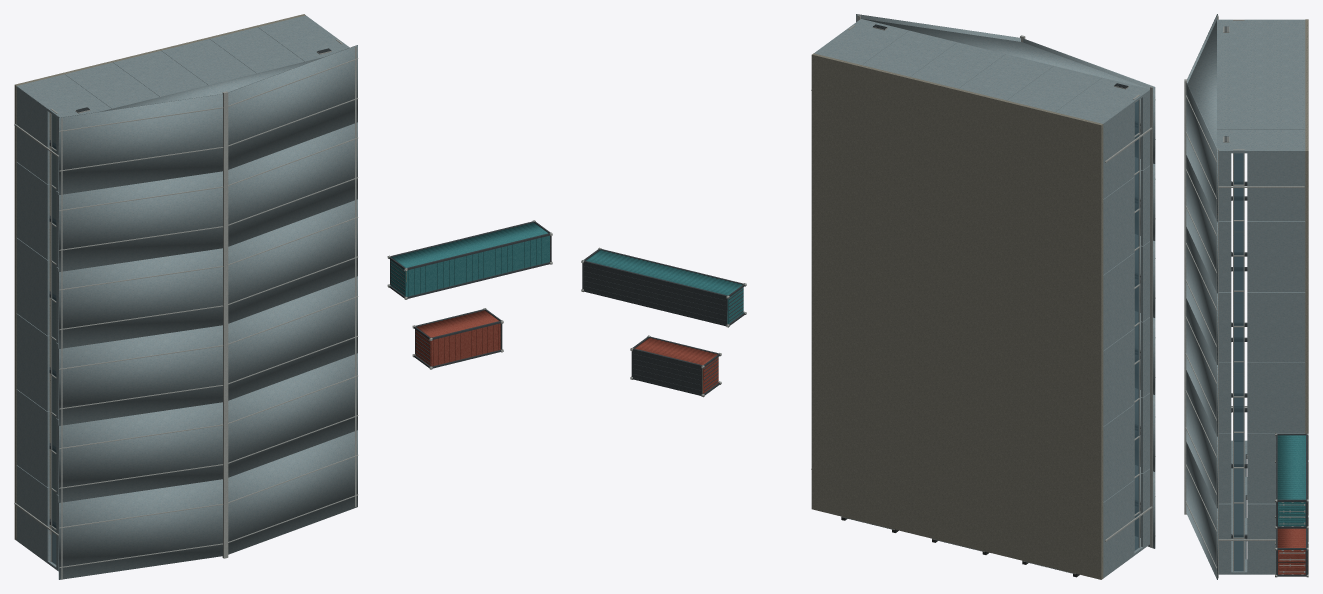
File: PROJECT_Z_Harbor_Warehouse_Containers_Kit.glb
3 renders of one model, left to right at view 1: azimuth 30°, elevation 25°; view 2: azimuth 150°, elevation 25°; view 3: azimuth 270°, elevation 25°, orthographic. The views are drawn at different scales.
Parts seen in each view (by area): view 1: WH_Roof_West_Sheet_06, WH_Roof_West_Sheet_01, WH_Roof_West_Sheet_02, WH_Roof_West_Sheet_03, WH_Roof_West_Sheet_05, WH_Roof_West_Sheet_04, WH_Roof_East_Sheet_06, WH_Roof_East_Sheet_02, WH_Roof_East_Sheet_05, WH_Roof_East_Sheet_01, WH_Roof_East_Sheet_04, WH_Roof_East_Sheet_03 (+21 smaller); view 2: WH_Floor_Slab_24x36, ISO40GP_BottomFrame_Chassis, WH_Rear_Gable_Cladding, WH_West_WallLower_05, WH_West_WallLower_02, WH_West_WallLower_03, WH_West_WallLower_04, WH_West_WallLower_01, WH_West_WallLower_06, WH_RearWall_Segment_4, WH_RearWall_Segment_2, WH_RearWall_Segment_3 (+9 smaller); view 3: WH_East_WallLower_03, WH_East_WallLower_04, WH_East_WallLower_05, WH_East_WallLower_06, WH_Roof_East_Sheet_06, WH_Roof_East_Sheet_02, WH_Roof_East_Sheet_03, WH_Roof_East_Sheet_05, WH_Roof_East_Sheet_04, WH_Roof_East_Sheet_01, WH_East_WallLower_02, WH_RearWall_Segment_6 (+50 smaller).
Boxes of the visible parts, left/top/right/bottom form: WH_Roof_West_Sheet_06: left=58, top=94, right=222, bottom=194; WH_Roof_West_Sheet_01: left=58, top=479, right=222, bottom=579; WH_Roof_West_Sheet_02: left=58, top=402, right=222, bottom=502; WH_Roof_West_Sheet_03: left=58, top=325, right=222, bottom=425; WH_Roof_West_Sheet_05: left=58, top=171, right=222, bottom=271; WH_Roof_West_Sheet_04: left=58, top=248, right=222, bottom=348; WH_Roof_East_Sheet_06: left=228, top=45, right=357, bottom=169; WH_Roof_East_Sheet_02: left=228, top=353, right=357, bottom=477; WH_Roof_East_Sheet_05: left=228, top=122, right=357, bottom=246; WH_Roof_East_Sheet_01: left=228, top=430, right=357, bottom=554; WH_Roof_East_Sheet_04: left=228, top=199, right=357, bottom=323; WH_Roof_East_Sheet_03: left=228, top=276, right=357, bottom=400; WH_Floor_Slab_24x36: left=811, top=53, right=1103, bottom=579; ISO40GP_BottomFrame_Chassis: left=584, top=263, right=727, bottom=324; WH_Rear_Gable_Cladding: left=861, top=18, right=1148, bottom=88; WH_West_WallLower_05: left=1103, top=177, right=1134, bottom=274; WH_West_WallLower_02: left=1103, top=404, right=1134, bottom=502; WH_West_WallLower_03: left=1103, top=329, right=1134, bottom=426; WH_West_WallLower_04: left=1103, top=253, right=1134, bottom=350; WH_West_WallLower_01: left=1103, top=480, right=1134, bottom=577; WH_West_WallLower_06: left=1103, top=102, right=1134, bottom=198; WH_RearWall_Segment_4: left=910, top=42, right=1005, bottom=88; WH_RearWall_Segment_2: left=1007, top=66, right=1101, bottom=111; WH_RearWall_Segment_3: left=959, top=54, right=1053, bottom=100; WH_East_WallLower_03: left=1247, top=362, right=1305, bottom=433; WH_East_WallLower_04: left=1247, top=292, right=1305, bottom=362; WH_East_WallLower_05: left=1247, top=221, right=1305, bottom=291; WH_East_WallLower_06: left=1247, top=151, right=1305, bottom=221; WH_Roof_East_Sheet_06: left=1186, top=83, right=1217, bottom=221; WH_Roof_East_Sheet_02: left=1186, top=370, right=1217, bottom=508; WH_Roof_East_Sheet_03: left=1186, top=298, right=1217, bottom=436; WH_Roof_East_Sheet_05: left=1186, top=155, right=1217, bottom=293; WH_Roof_East_Sheet_04: left=1186, top=227, right=1217, bottom=364; WH_Roof_East_Sheet_01: left=1186, top=442, right=1217, bottom=579; WH_East_WallLower_02: left=1247, top=433, right=1305, bottom=503; WH_RearWall_Segment_6: left=1217, top=129, right=1305, bottom=153.
Bounding box in the file's own units: 43.48 × 36.88 × 9.58.
Materials: 13 (13 with a texture image).
